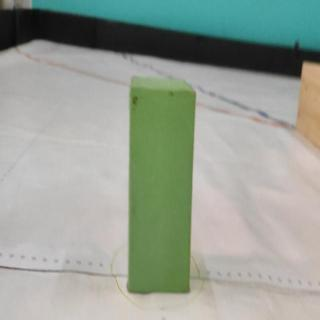greenbox: (127, 73, 198, 293)
